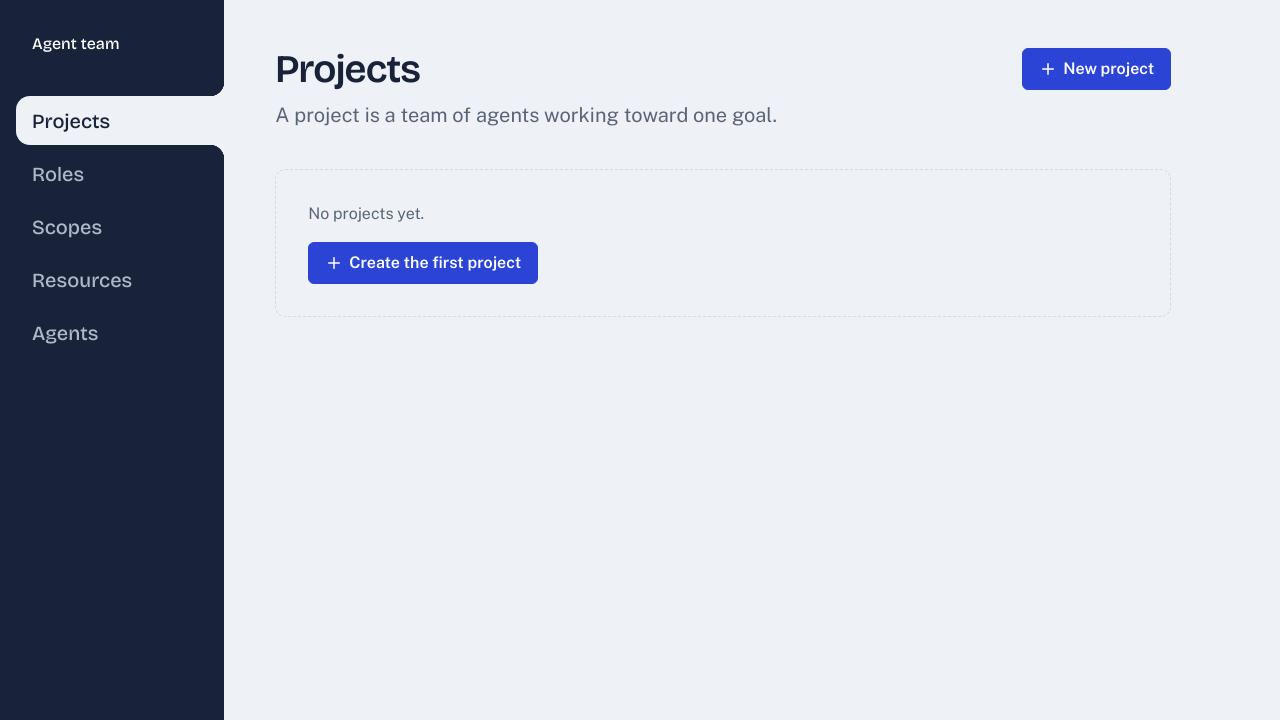
Test case: side tabs › switch sections by click and with the arrow keys
Click the tab "Roles" at (120, 174), box [16,149,224,198]
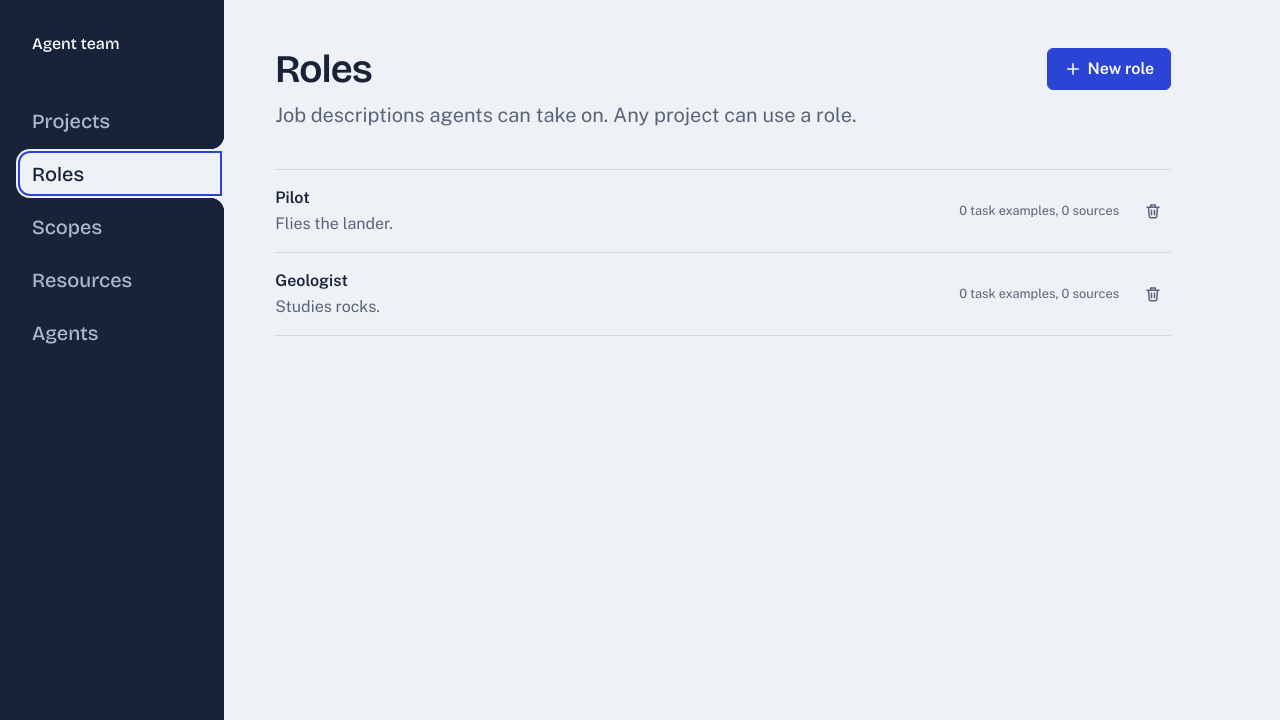
Expected: the heading "Roles" is shown, [275,46,372,93]
Press Arrowdown Arrowdown
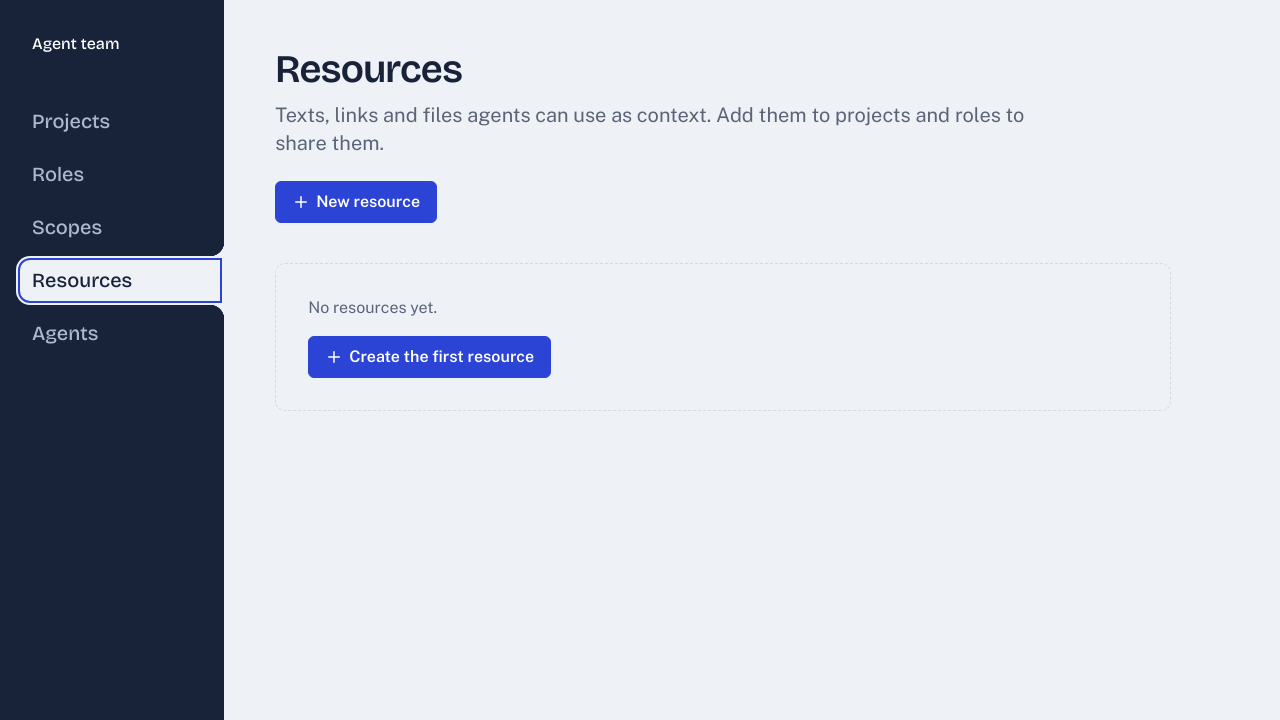
Expected: the heading "Resources" is shown, [275,46,462,93]
